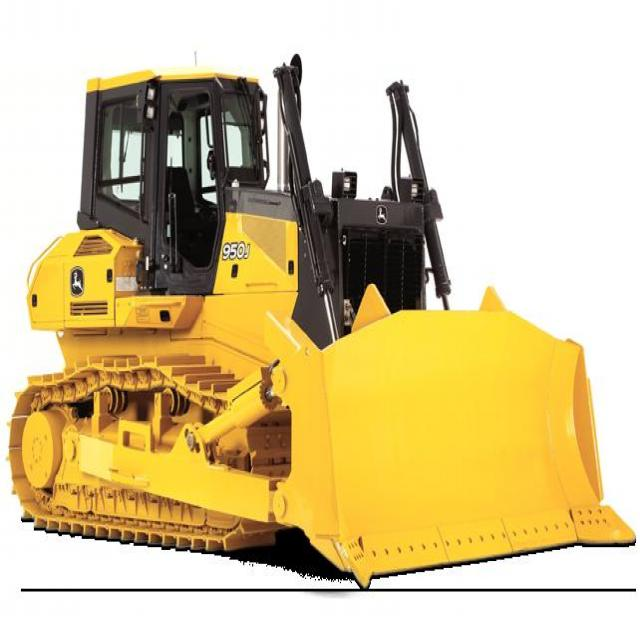Bulldozer: (15, 64, 639, 593)
